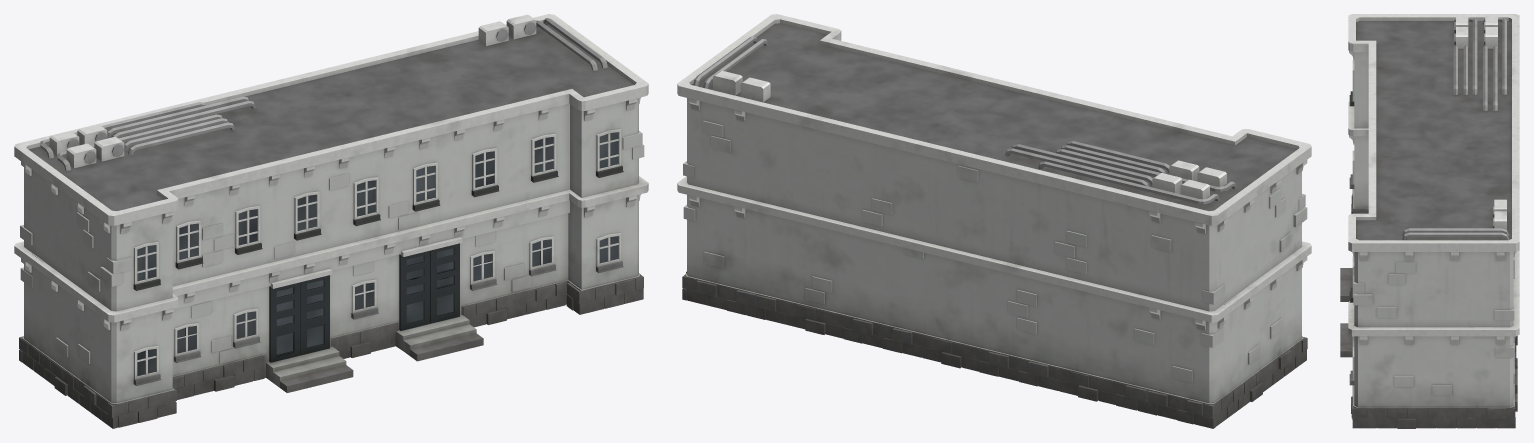
Rendered from building_2Story_Wide_2Doors.glb.
3 renders of one model, left to right at view 1: azimuth 30°, elevation 25°; view 2: azimuth 150°, elevation 25°; view 3: azimuth 270°, elevation 25°, orthographic. The views are drawn at different scales.
Parts seen in each view (by area): view 1: 2Story_Wide_2Doors_high; view 2: 2Story_Wide_2Doors_high; view 3: 2Story_Wide_2Doors_high.
Part boxes in pixels (left/top/right/bottom): 2Story_Wide_2Doors_high: left=14, top=14, right=648, bottom=428; 2Story_Wide_2Doors_high: left=677, top=14, right=1311, bottom=428; 2Story_Wide_2Doors_high: left=1340, top=14, right=1519, bottom=428.
Size of the model in its own units: 6.83 by 2.75 by 2.26.
Materials: 2 (2 with a texture image).
